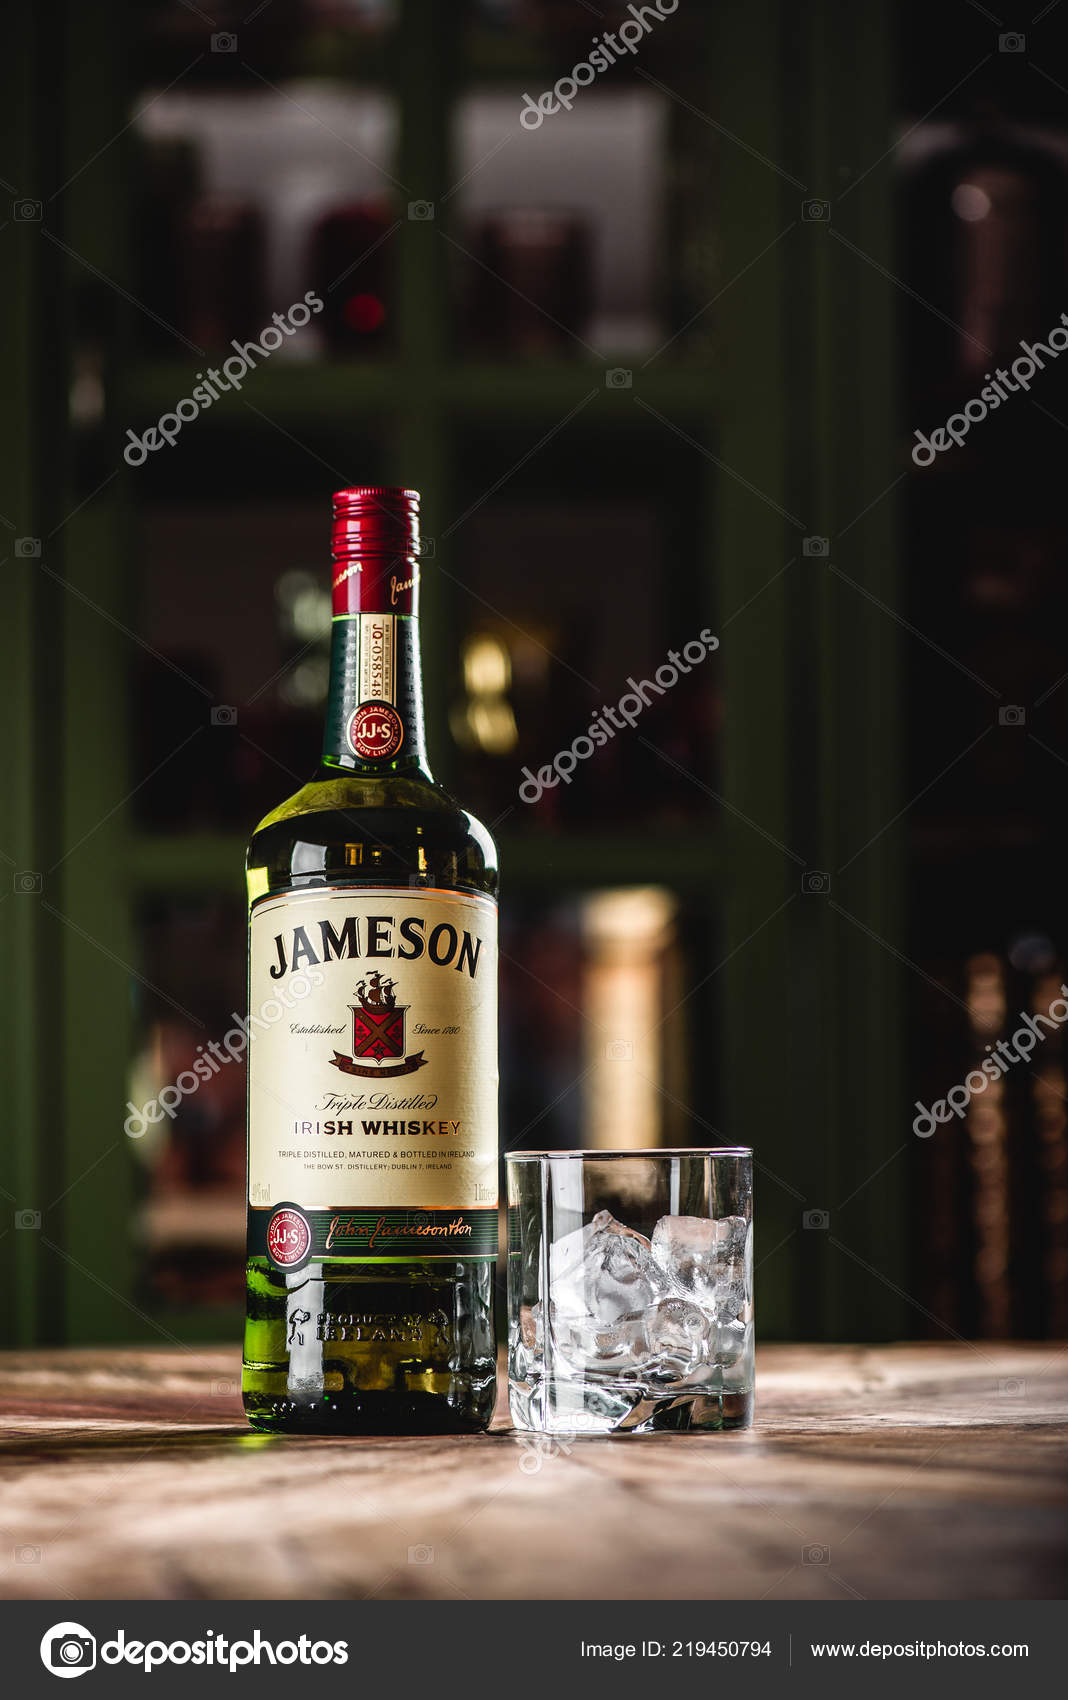Jameson: (228, 474, 509, 1448)
